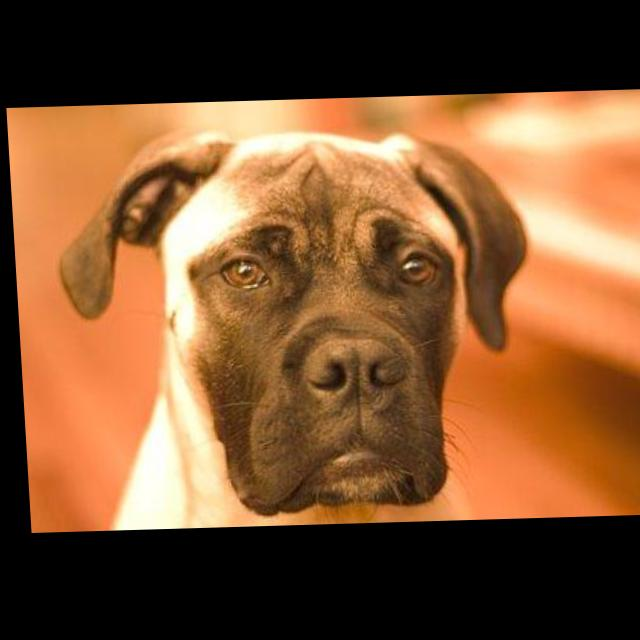bullmastiff: (48, 121, 539, 533)
